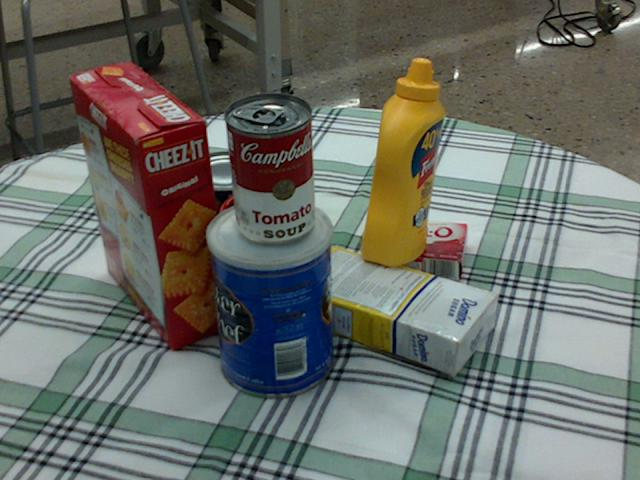cracker_box: (68, 64, 230, 348)
gelatin_box: (372, 217, 466, 282)
master_chef_can: (205, 197, 335, 398)
mug: (210, 186, 311, 297)
mustard_bottle: (361, 58, 444, 266)
potted_meat_can: (158, 171, 276, 261)
sugar_box: (287, 245, 499, 372)
tomato_soup_can: (222, 91, 313, 242)
tuna_fish_can: (184, 151, 266, 217)
